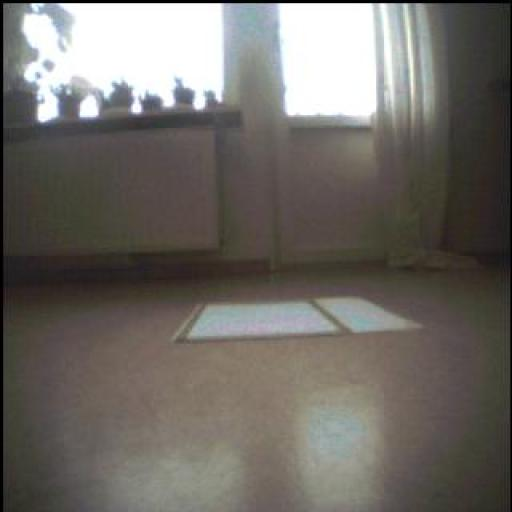Pad: (172, 289, 413, 343)
